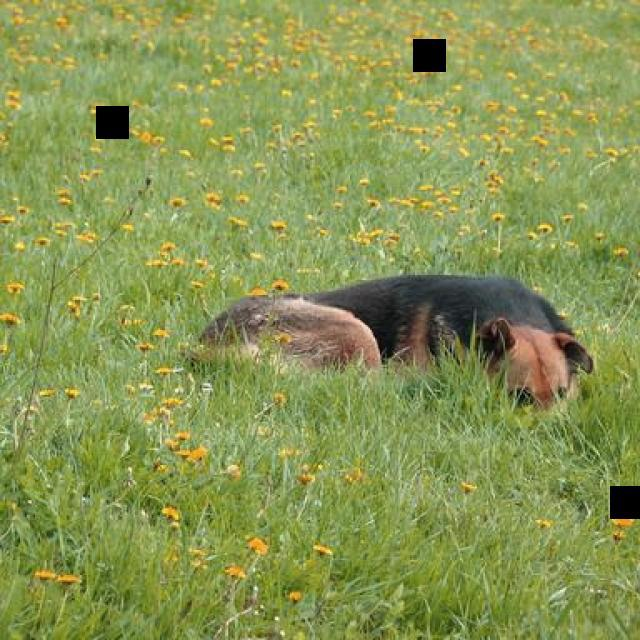adult_dog: (183, 266, 602, 413)
